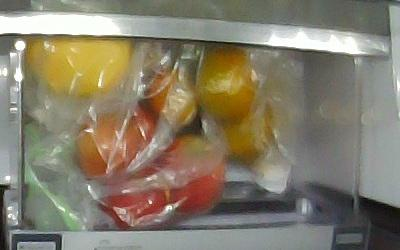apple_vinyl: (153, 133, 227, 211), (98, 165, 170, 231)
grapefruit_vinyl: (28, 37, 133, 96)
persimmon_vinyl: (208, 94, 280, 166), (195, 46, 259, 120)
prune_vinyl: (75, 112, 128, 181), (143, 71, 196, 128), (124, 104, 155, 149)
